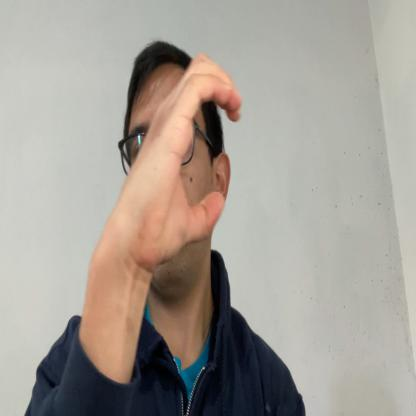C: (126, 52, 242, 263)
